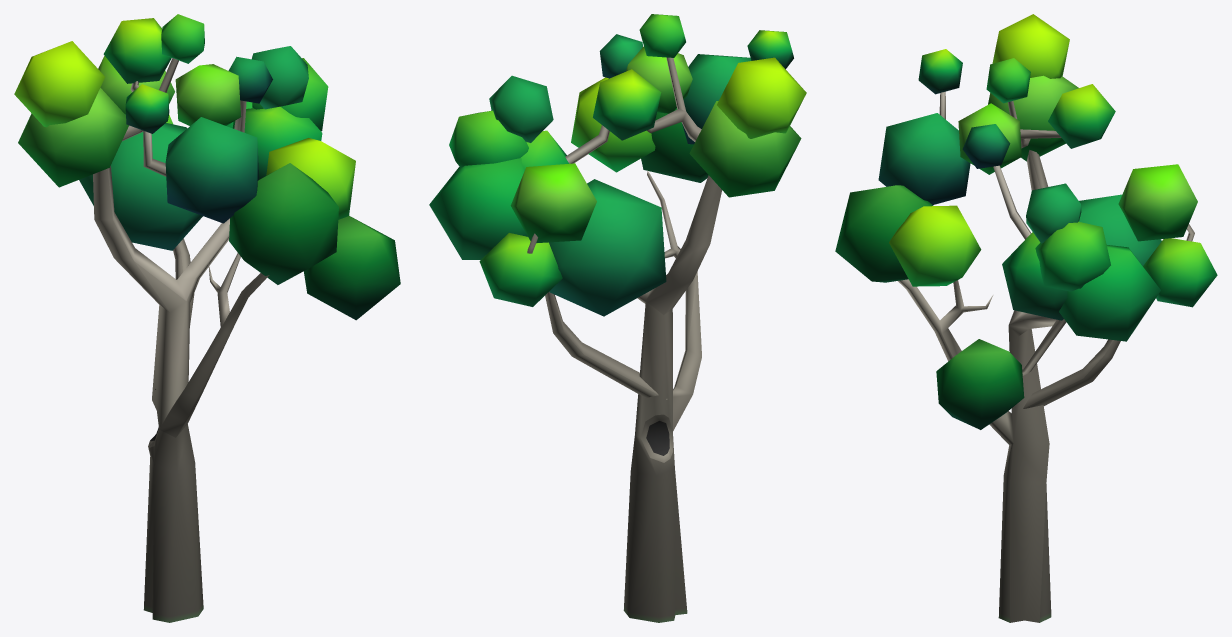
The model's file is Tree_1L.fbx.
3 views of the same model, side by side, from view 1: azimuth 30°, elevation 25°; view 2: azimuth 150°, elevation 25°; view 3: azimuth 270°, elevation 25° (orthographic). The views are drawn at different scales.
Visible parts, largest first — view 1: Tree_1L; view 2: Tree_1L; view 3: Tree_1L.
Boxes of the visible parts, left/top/right/bottom form: Tree_1L: left=14, top=14, right=400, bottom=622; Tree_1L: left=429, top=14, right=806, bottom=622; Tree_1L: left=835, top=14, right=1217, bottom=622.
Bounding box in the file's own units: 330 × 545 × 341.
